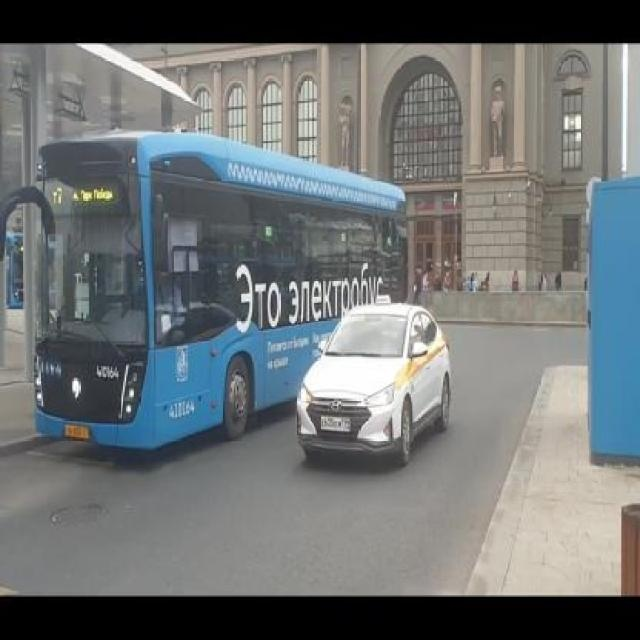Bus: (22, 127, 408, 458)
